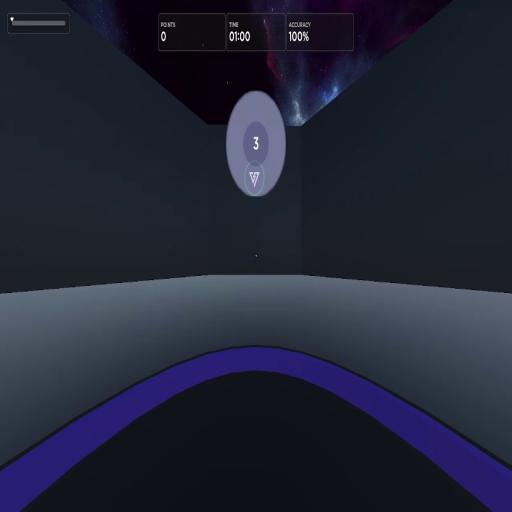Crosshair: (255, 254, 257, 257)
